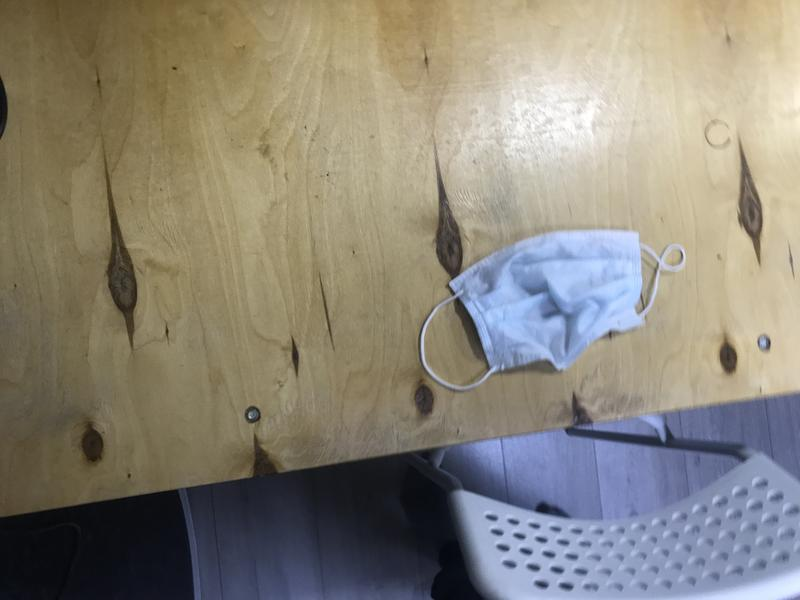medical_mask: (417, 229, 687, 396)
